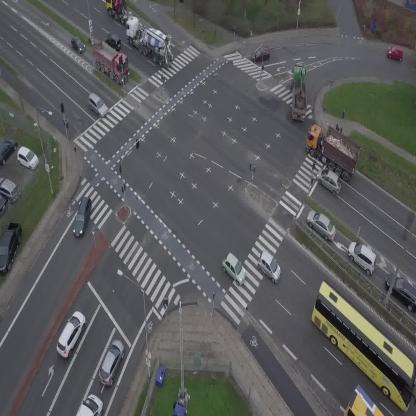car: (51, 308, 90, 359), (95, 337, 129, 388), (342, 237, 384, 276), (302, 205, 342, 244), (217, 251, 252, 287), (253, 249, 287, 284), (312, 165, 347, 196), (70, 195, 95, 238), (83, 92, 111, 119), (66, 34, 87, 56), (104, 32, 125, 51), (251, 46, 271, 61), (388, 46, 402, 61)
lorry: (296, 117, 369, 182), (115, 14, 183, 70), (84, 36, 138, 87), (292, 66, 307, 120), (76, 394, 102, 416)
